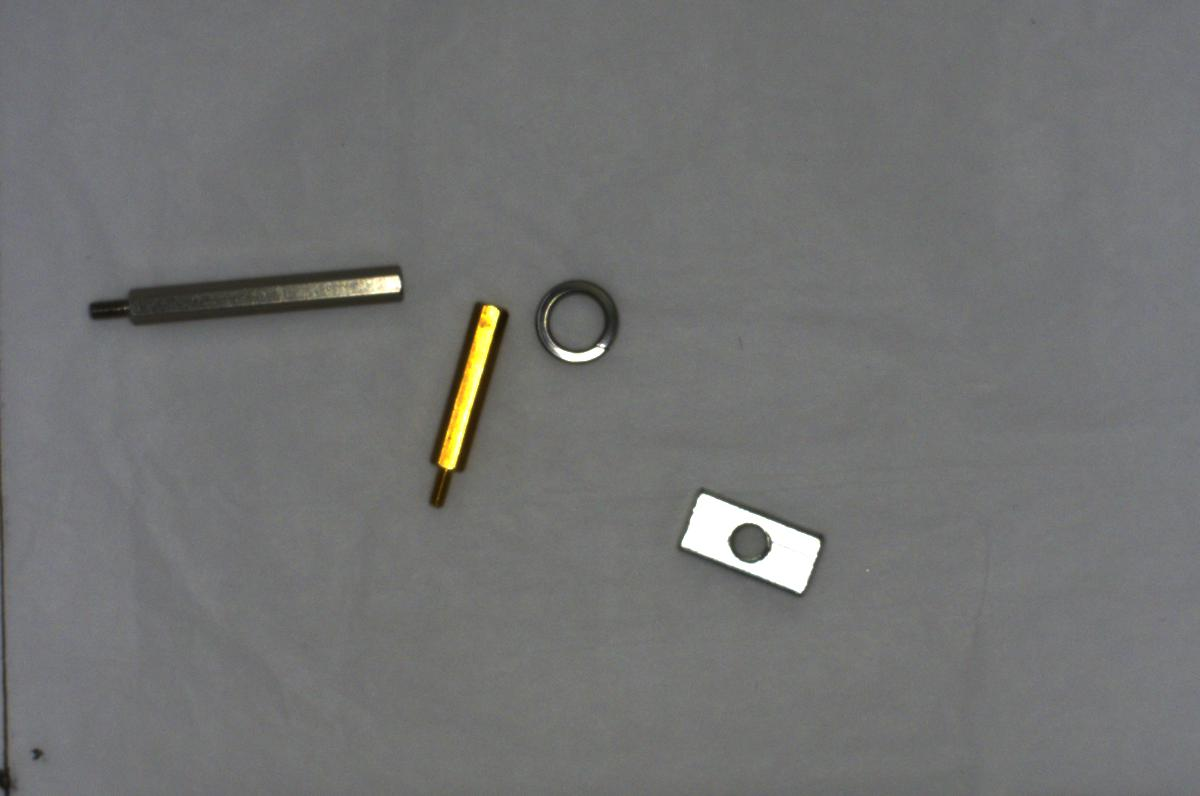Hexagon pillar: (419, 294, 510, 509)
Hexagonal steel column: (77, 262, 402, 322)
Rectangular nut: (667, 487, 830, 605)
Spring washer: (527, 273, 621, 369)
